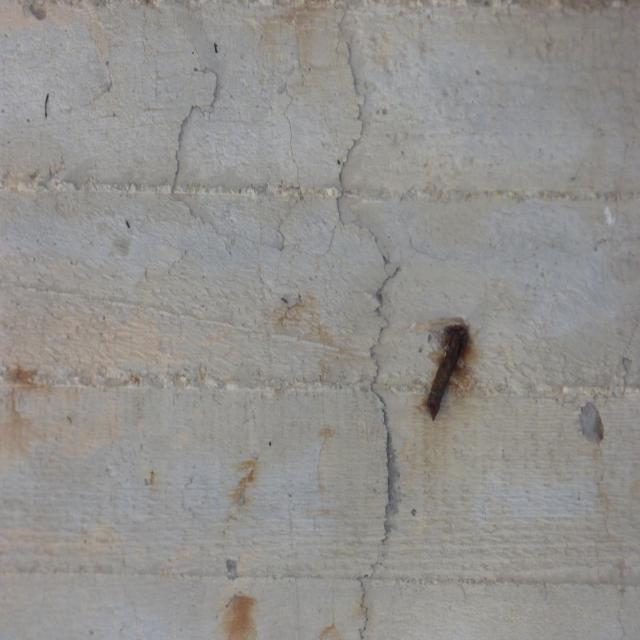corrosion: (410, 308, 492, 419), (218, 456, 262, 640), (4, 364, 40, 400)
